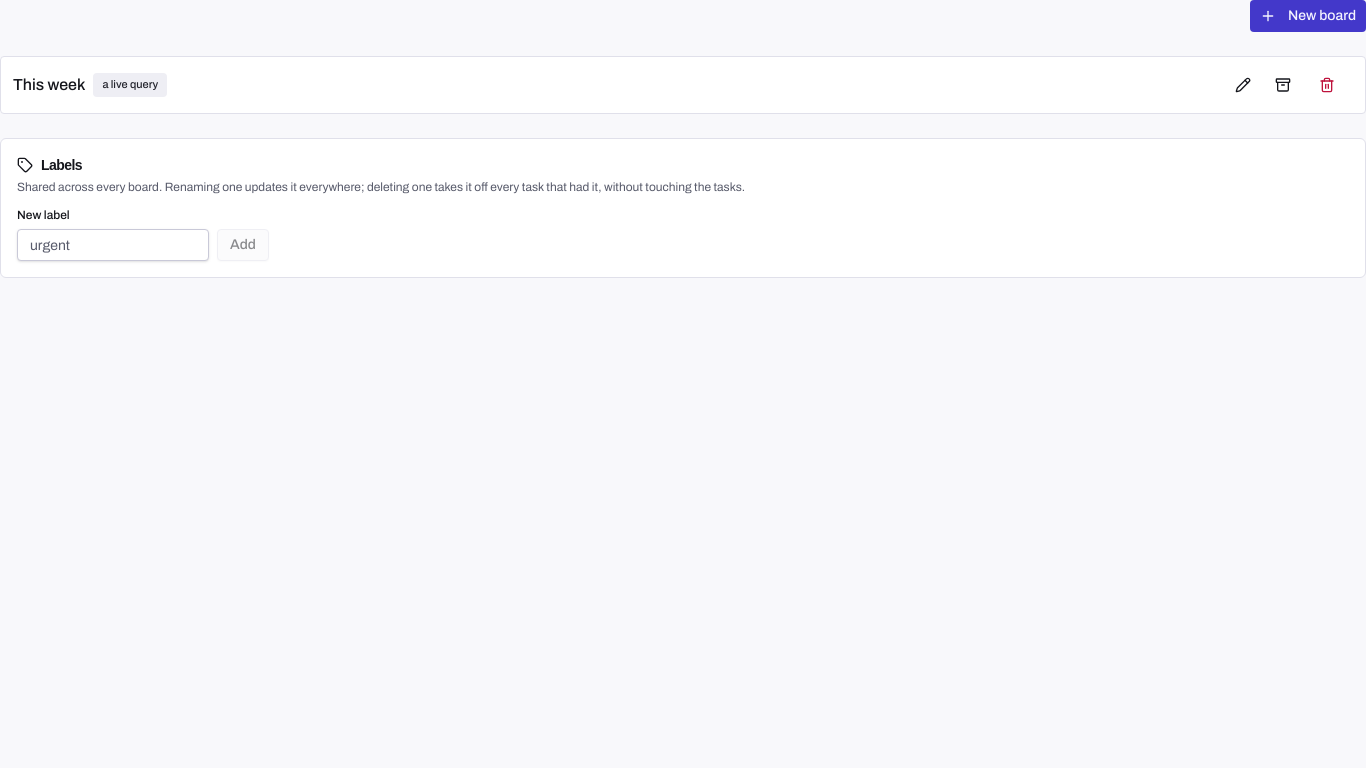
Test case: BoardsList › closes the edit dialog on escape and resets which board was being edited
Click the button named "Edit This week" at [1243, 85], box [1225,69,1261,101]
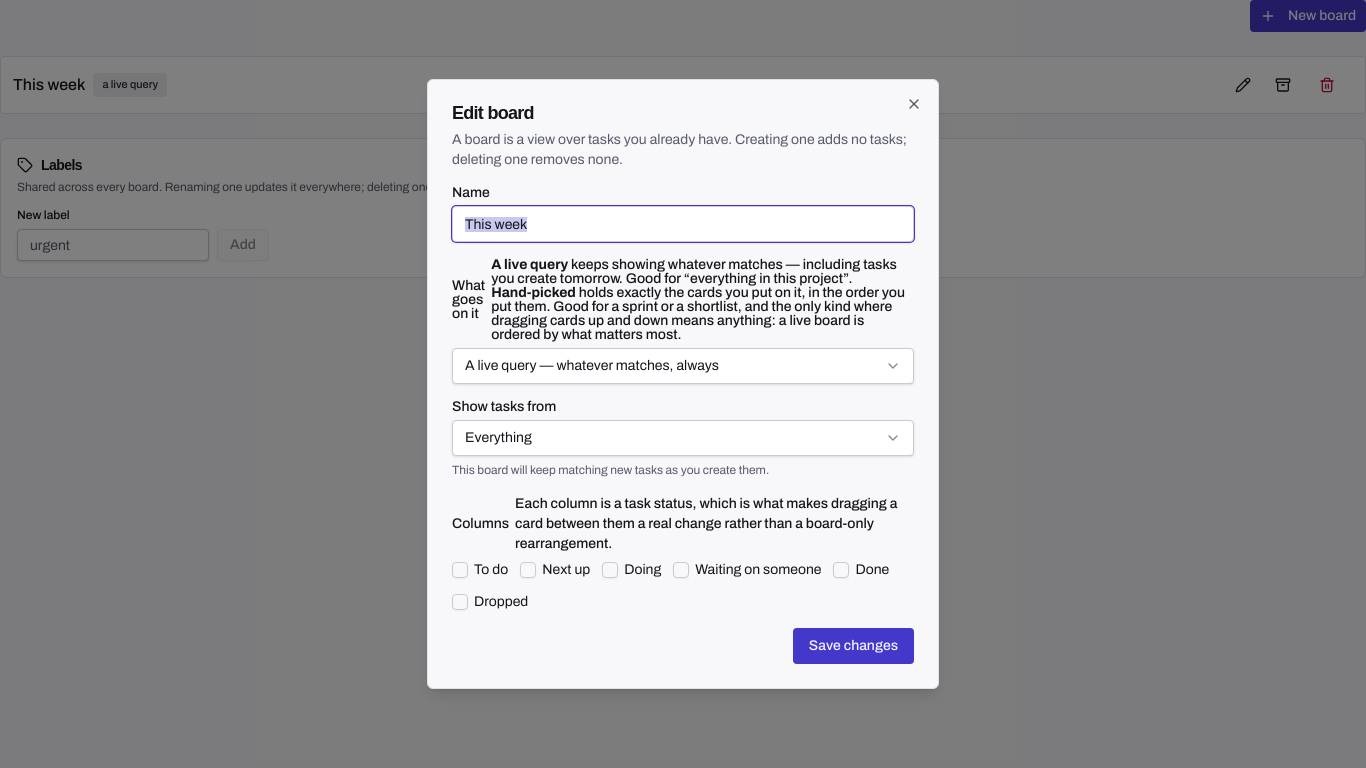
Check: the dialog is shown, box [427,79,939,689]
Press Escape
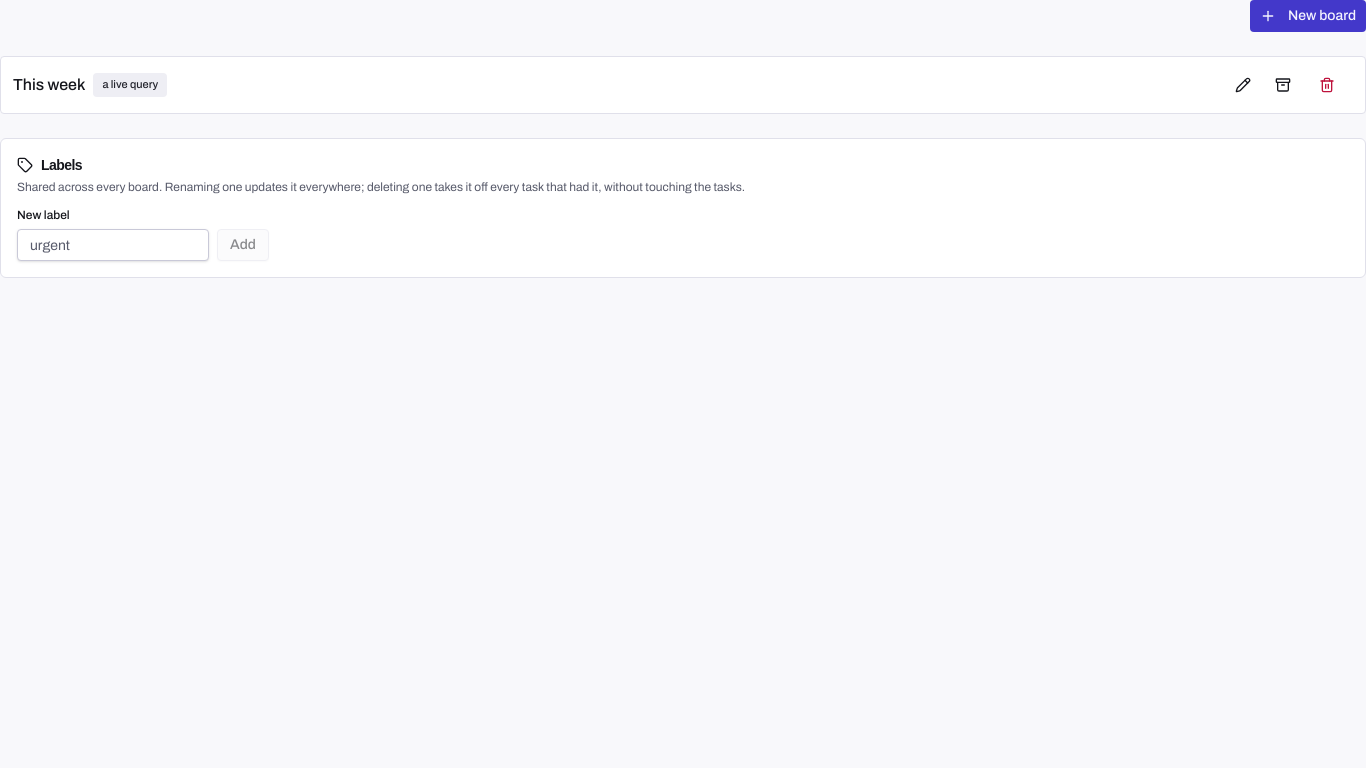
Check: the dialog is gone
